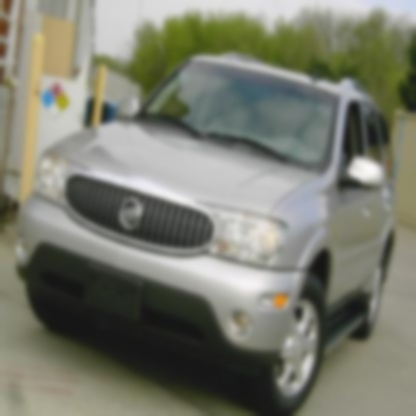Vehicle: (9, 43, 409, 414)
